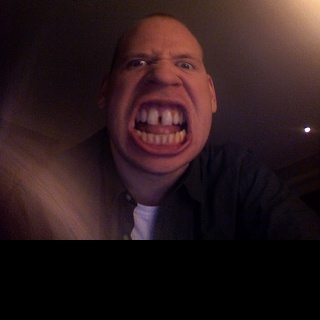without_mask: (106, 16, 212, 174)
